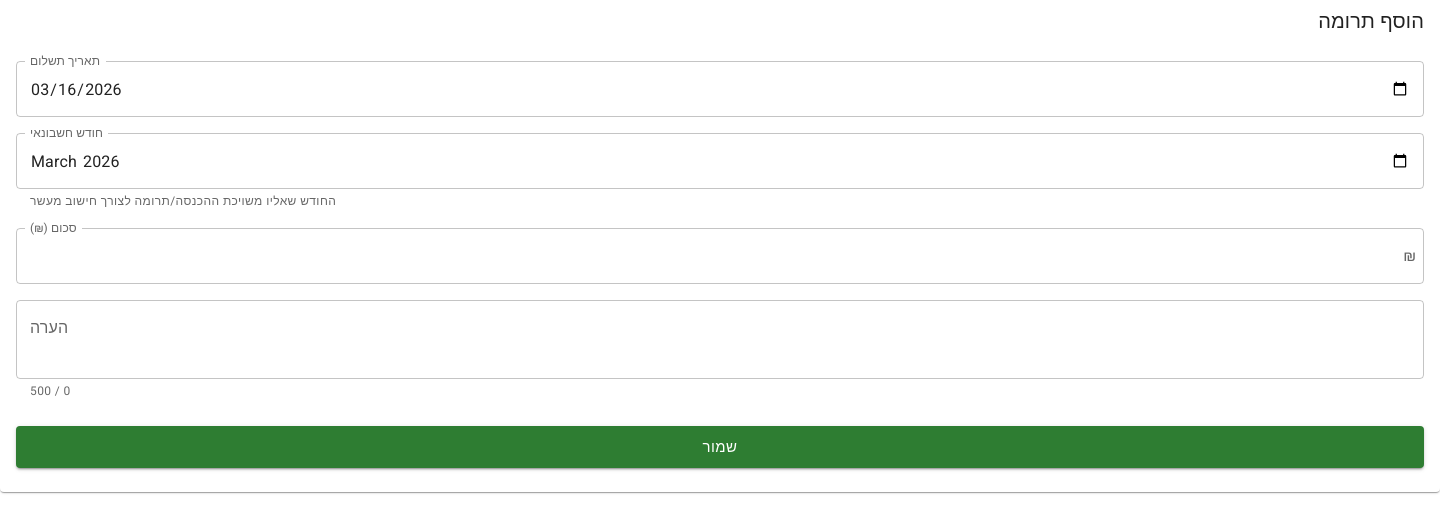
Test case: AddDonation Component › accounting month field › should sync accounting month when date changes for new entries
// Change date to a different month
Step 1. Type "2026-05-15" into the date field labelled "תאריך תשלום" → (720, 89), box 16,61 -> 1424,117
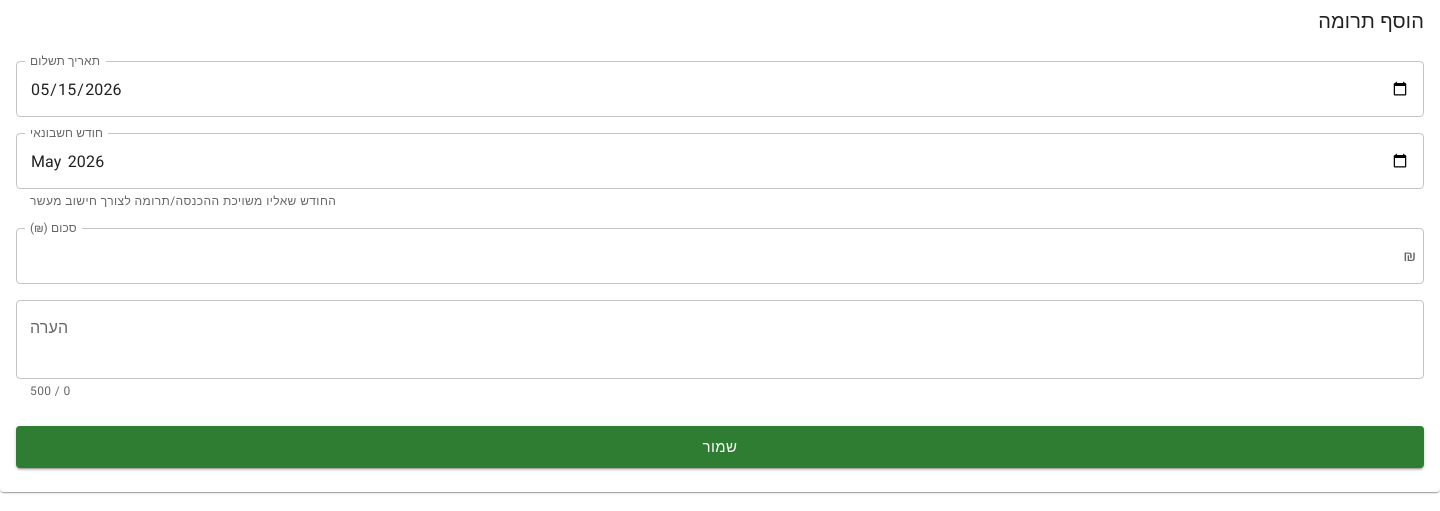
Result: the field labelled "חודש חשבונאי" holds "2026-05" at 16,133 -> 1424,189
